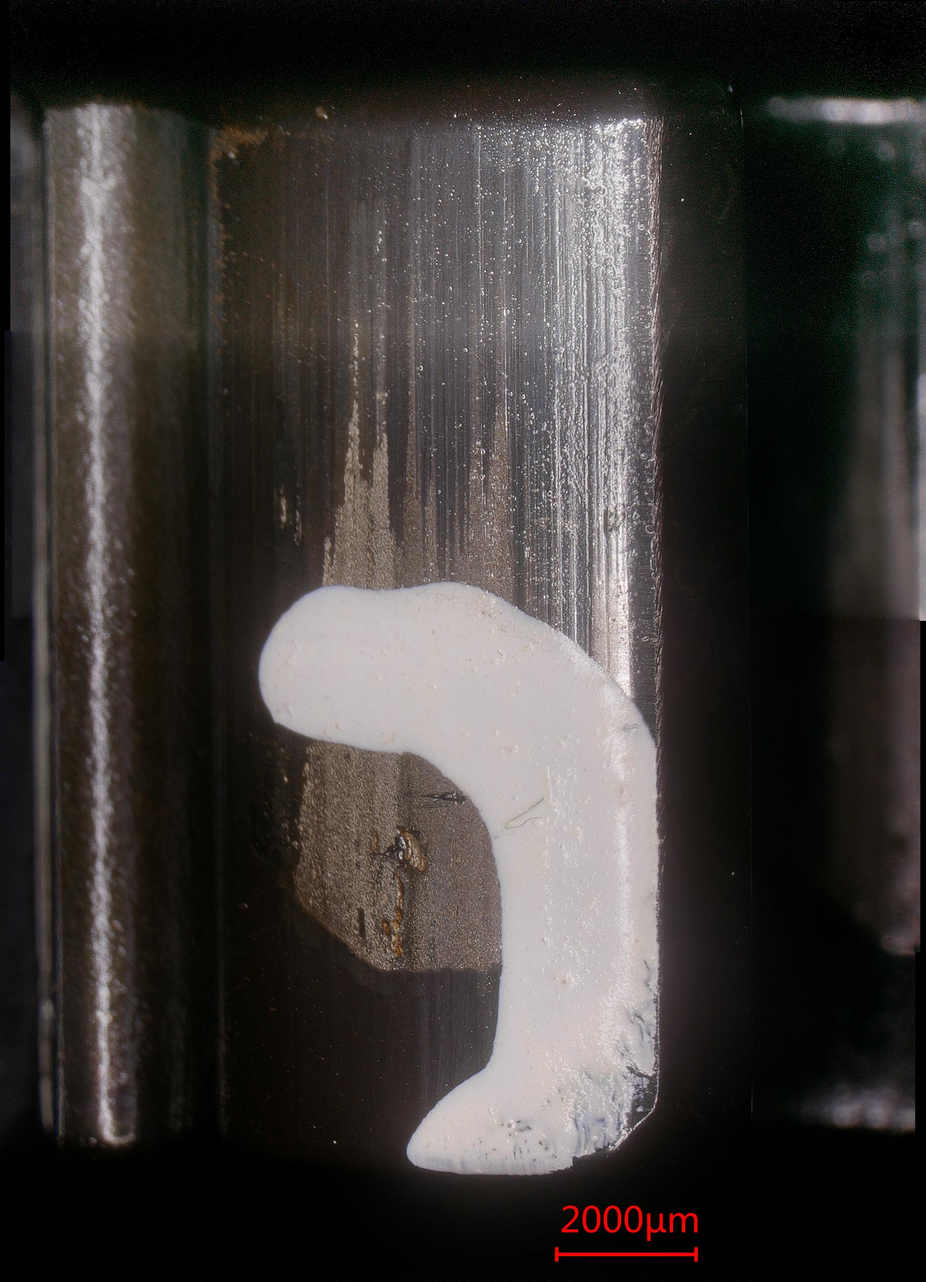Abrasion: (202, 132, 660, 1158)
